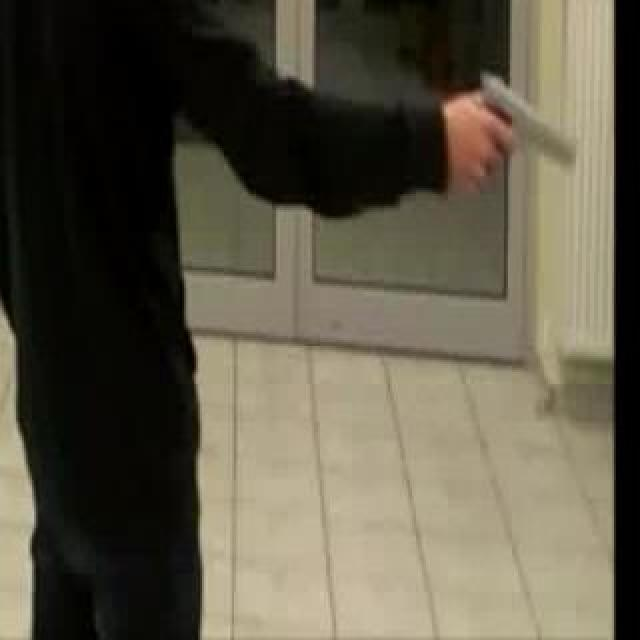Guns: (440, 47, 603, 206)
